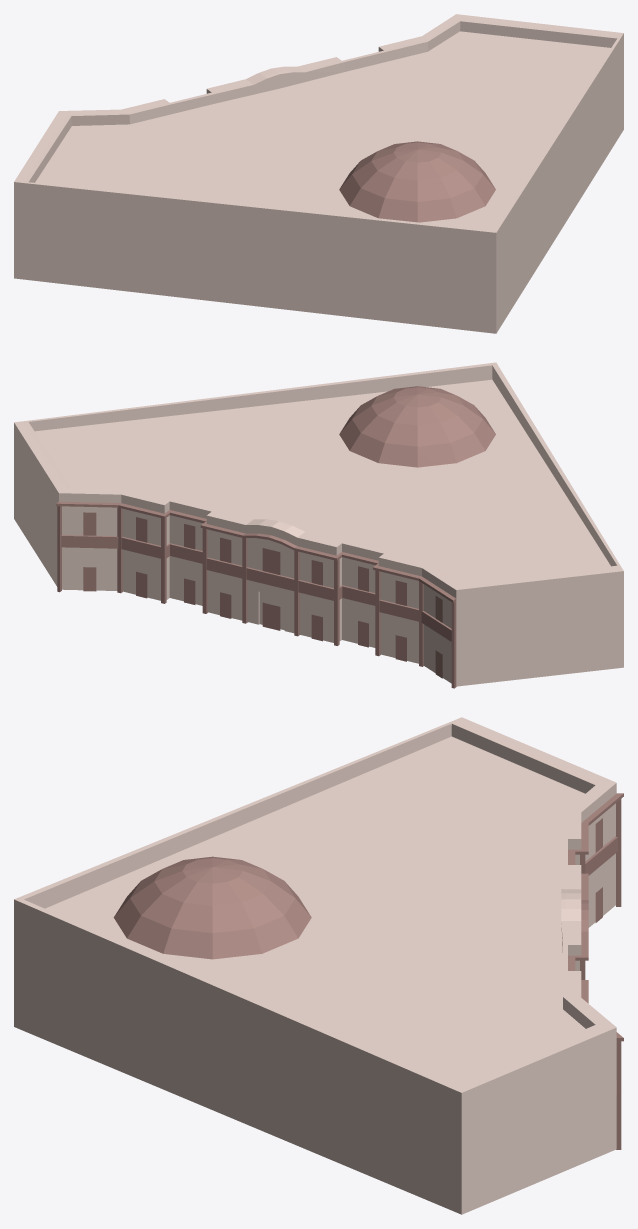
Rendered from Olmos 1.FBX.
3 renders of one model, top to bottom at view 1: azimuth 30°, elevation 25°; view 2: azimuth 150°, elevation 25°; view 3: azimuth 270°, elevation 25°, orthographic. The views are drawn at different scales.
Visible parts, largest first — view 1: Cube; view 2: Cube; view 3: Cube.
Part boxes in pixels (x1,y1,x2,y2): Cube: (14,14,623,333); Cube: (14,362,623,688); Cube: (14,717,623,1214).
Size of the model in its own units: 521 by 104 by 357.
